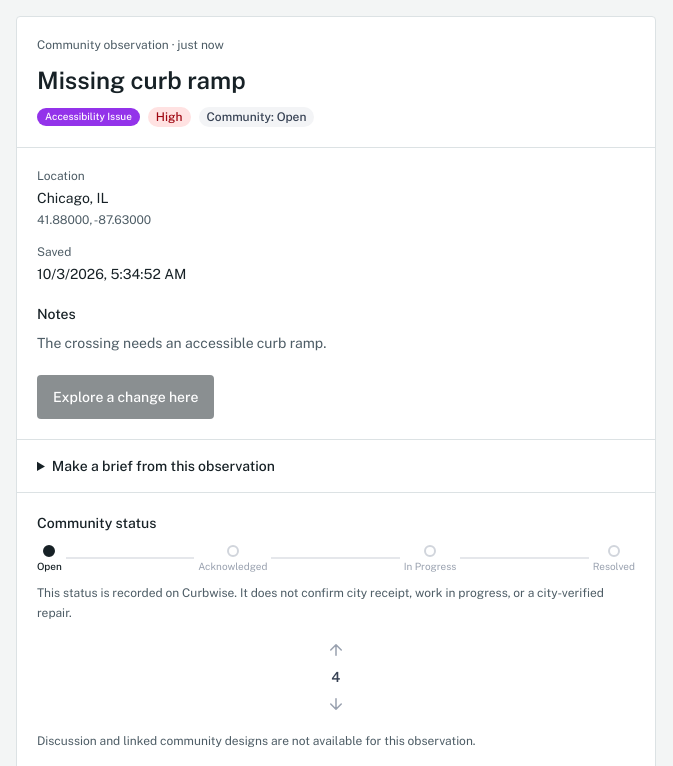
Test: community report detail actions › handles a failed vote and permits retry without retaining the failed optimistic count
Click the button named "Upvote" at (336, 650), box [321, 635, 351, 665]
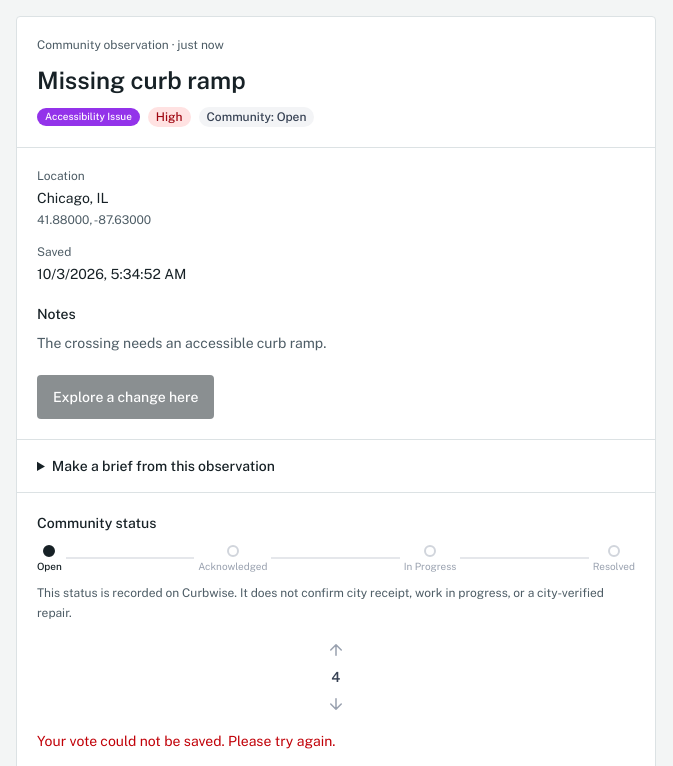
expect the text named "4 votes" is shown: met, box [331, 669, 341, 685]
expect the message reads "Your vote could not be saved. Please try again.": met, box [37, 733, 335, 749]
Click the button named "Upvote" at (336, 650), box [321, 635, 351, 665]
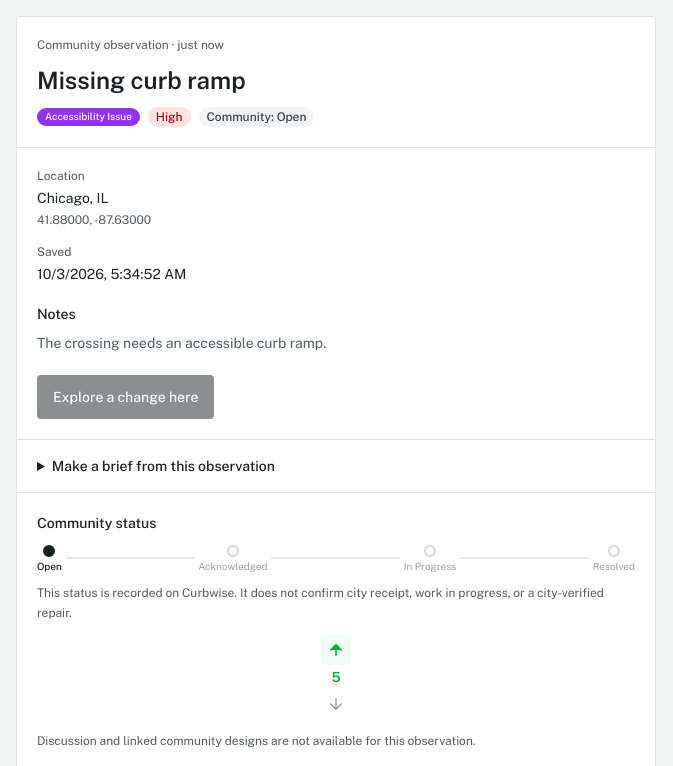
expect the message "Your vote could not be saved. Please try again." is gone: met
